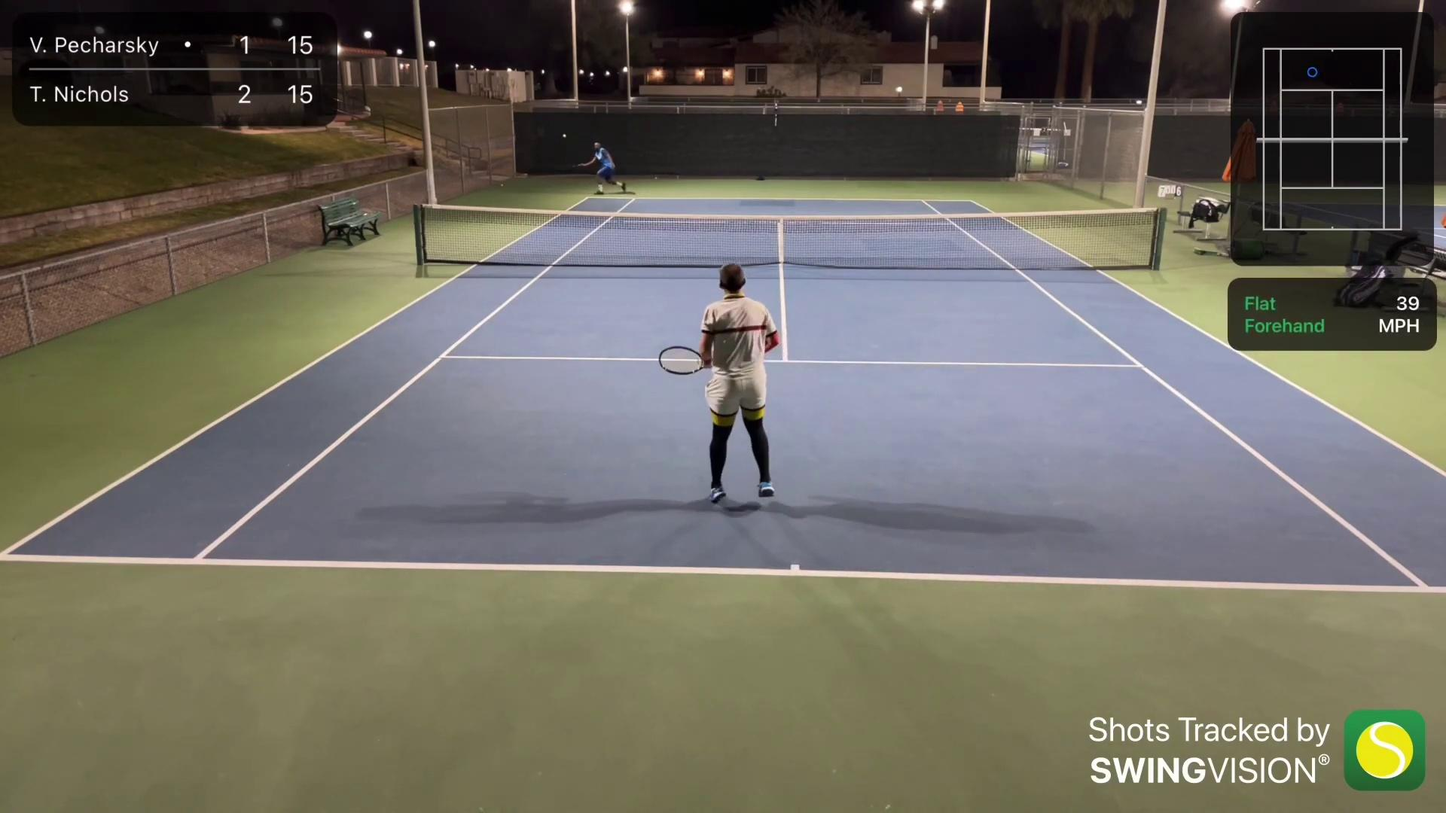ball: (561, 133, 567, 140)
